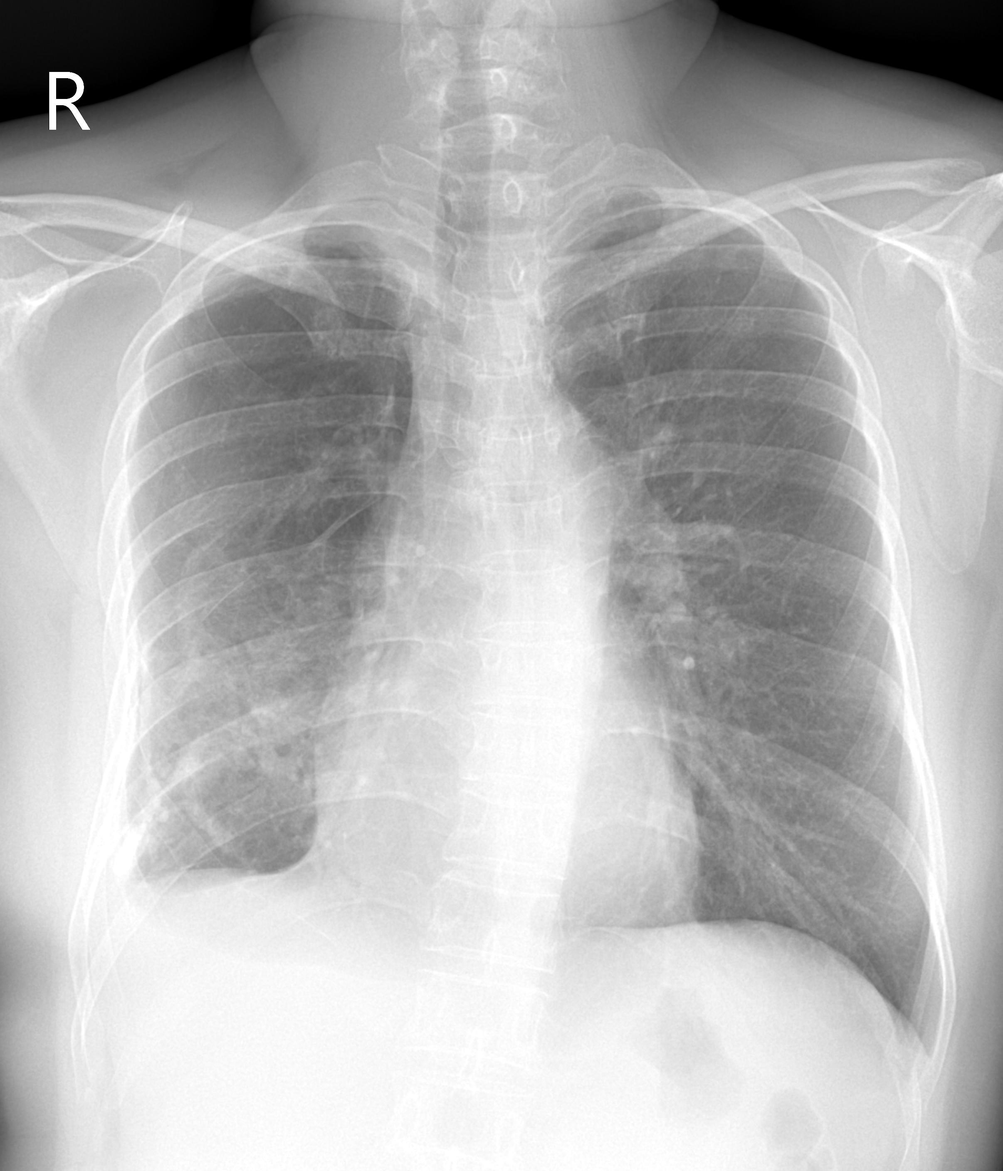Pleural thickening: (170, 483, 383, 792), (109, 491, 165, 875), (212, 227, 397, 284)
